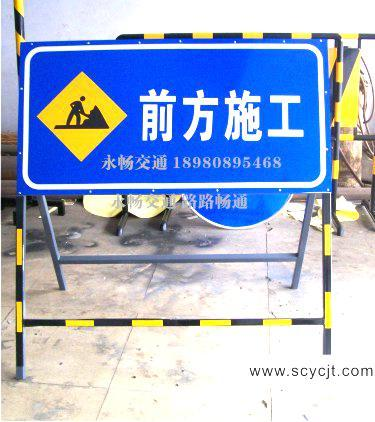sign: (20, 44, 330, 191)
